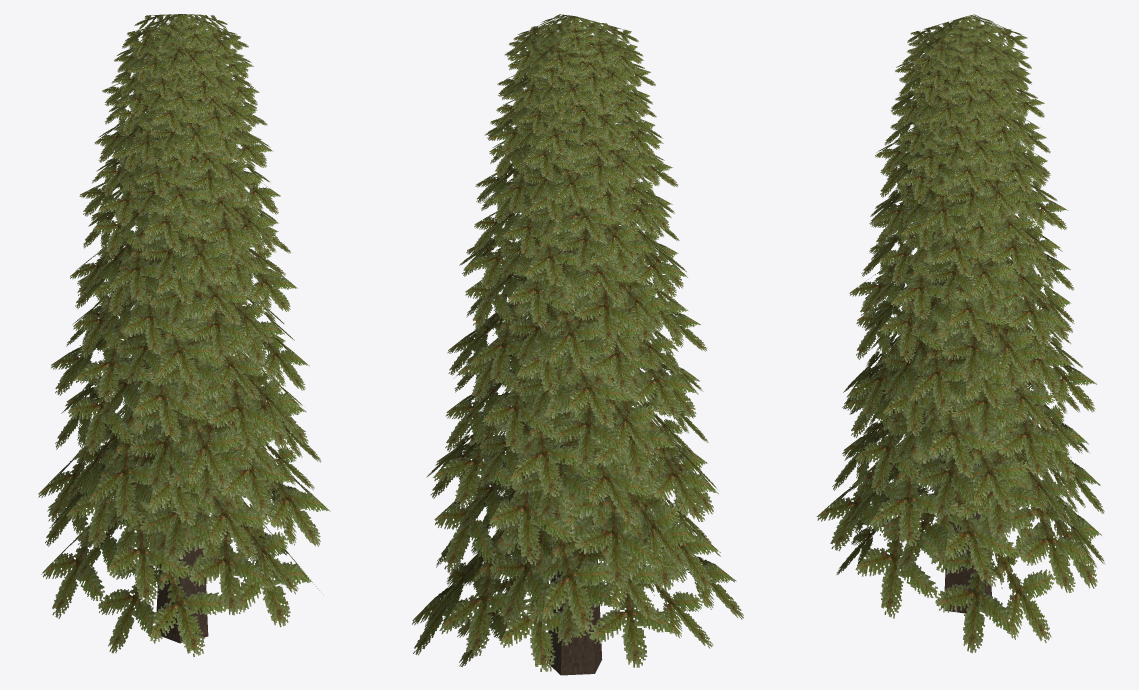
Rendered from tree.glb.
The picture shows the model from 3 angles, left to right: view 1: azimuth 30°, elevation 25°; view 2: azimuth 150°, elevation 25°; view 3: azimuth 270°, elevation 25°; orthographic projection. The views are drawn at different scales.
Parts seen in each view (by area): view 1: tree; view 2: tree; view 3: tree.
Boxes of the visible parts, left/top/right/bottom form: tree: left=38, top=14, right=330, bottom=656; tree: left=412, top=14, right=743, bottom=675; tree: left=816, top=14, right=1105, bottom=653.
Size of the model in its own units: 6.02 by 12.24 by 6.28.
2 materials, 2 textured.
